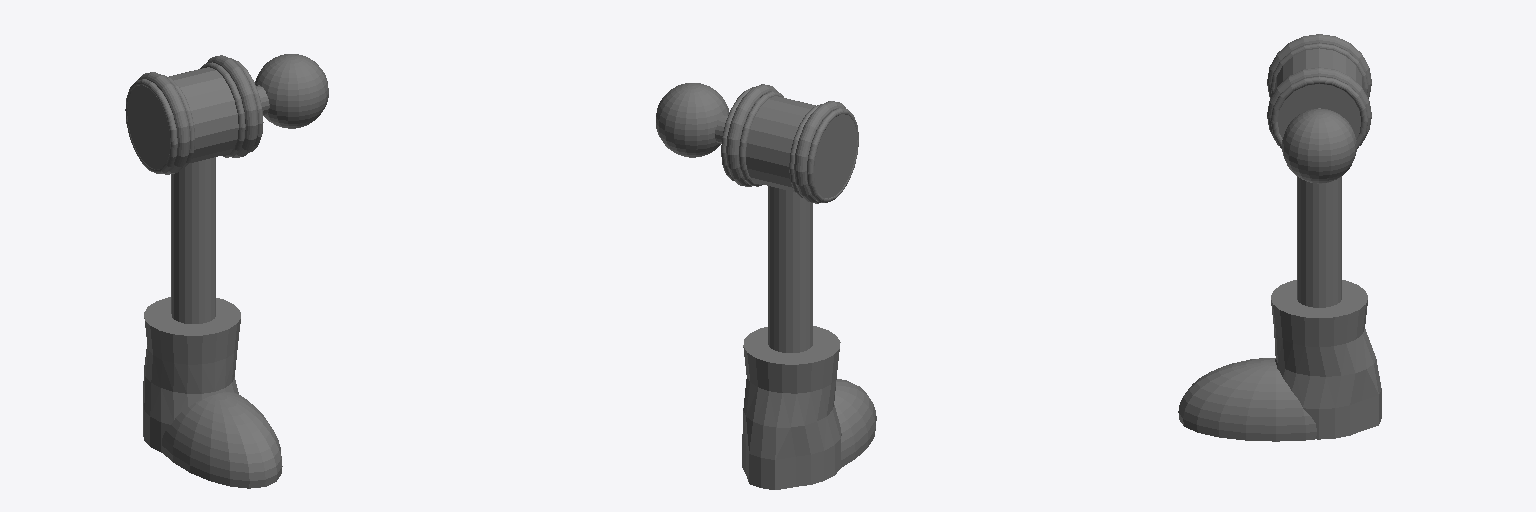
Rendered from CylinderBotRightLeg_Positioned_MERGED.obj.
The picture shows the model from 3 angles: view 1: azimuth 30°, elevation 25°; view 2: azimuth 150°, elevation 25°; view 3: azimuth 270°, elevation 25°; orthographic projection.
Visible parts, largest first — view 1: CylinderBotRightLeg_Positioned:polySurface28 polySurface39, CylinderBotRightLeg_Positioned:polySurface21 CylinderBotRightLeg; view 2: CylinderBotRightLeg_Positioned:polySurface28 polySurface39, CylinderBotRightLeg_Positioned:polySurface21 CylinderBotRightLeg; view 3: CylinderBotRightLeg_Positioned:polySurface28 polySurface39, CylinderBotRightLeg_Positioned:polySurface21 CylinderBotRightLeg.
Boxes of the visible parts, x1=… form: CylinderBotRightLeg_Positioned:polySurface28 polySurface39: x1=125, y1=55, x2=282, y2=488; CylinderBotRightLeg_Positioned:polySurface21 CylinderBotRightLeg: x1=255, y1=54, x2=328, y2=128; CylinderBotRightLeg_Positioned:polySurface28 polySurface39: x1=715, y1=84, x2=876, y2=489; CylinderBotRightLeg_Positioned:polySurface21 CylinderBotRightLeg: x1=656, y1=83, x2=729, y2=157; CylinderBotRightLeg_Positioned:polySurface28 polySurface39: x1=1178, y1=34, x2=1381, y2=441; CylinderBotRightLeg_Positioned:polySurface21 CylinderBotRightLeg: x1=1282, y1=109, x2=1356, y2=183.
Bounding box in the file's own units: 5.4 × 10.82 × 5.41.